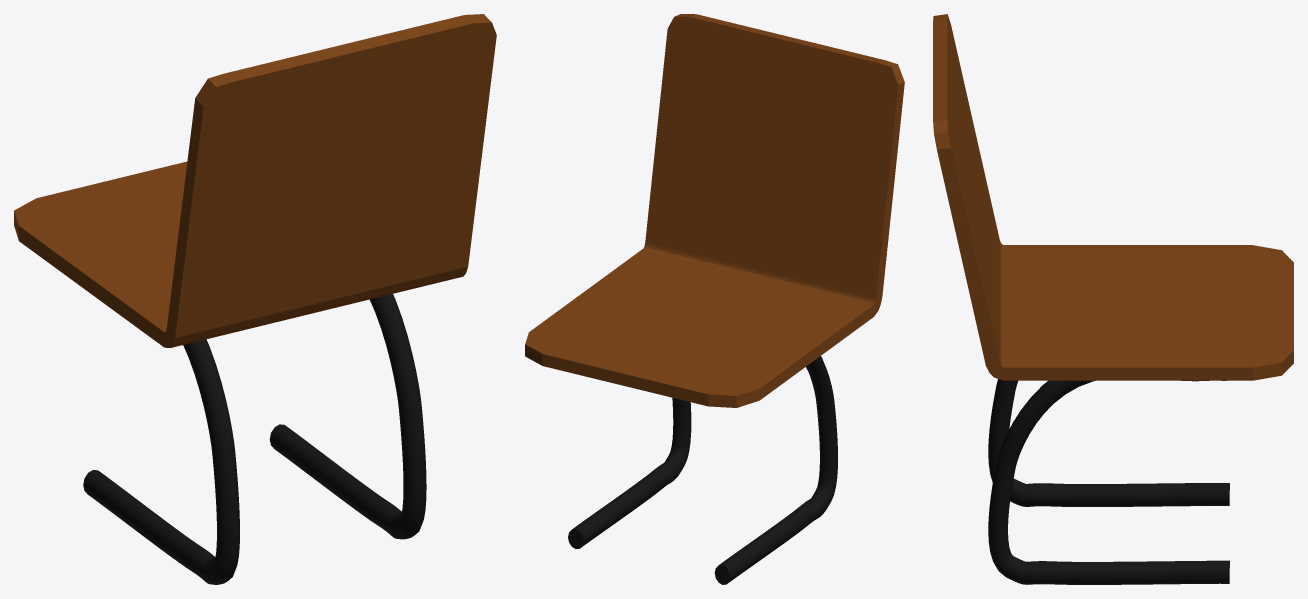
File: stuhl.fbx
The picture shows the model from 3 angles, left to right: view 1: azimuth 30°, elevation 25°; view 2: azimuth 150°, elevation 25°; view 3: azimuth 270°, elevation 25°; orthographic projection. The views are drawn at different scales.
Visible parts, largest first — view 1: Cube.001; view 2: Cube.001; view 3: Cube.001.
Part boxes in pixels (x1,y1,x2,y2): Cube.001: [14, 14, 496, 584]; Cube.001: [525, 14, 904, 584]; Cube.001: [933, 14, 1293, 584].
Size of the model in its own units: 40 by 71.97 by 49.8.
